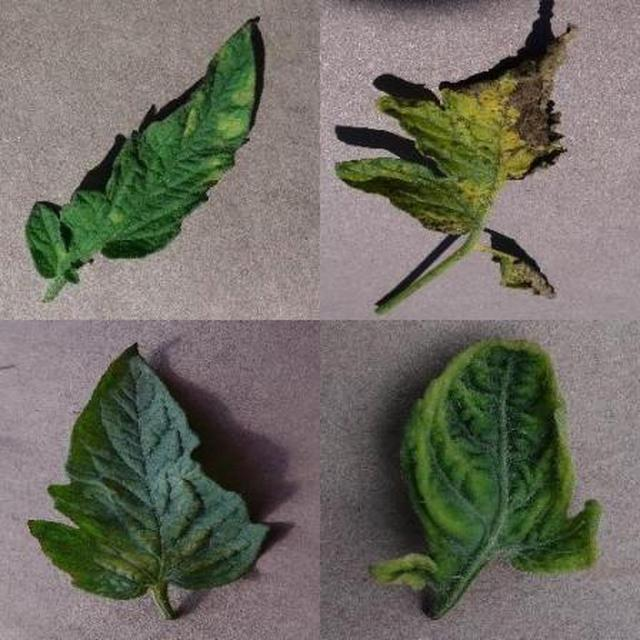Leaf Mold: (202, 186, 640, 640)
